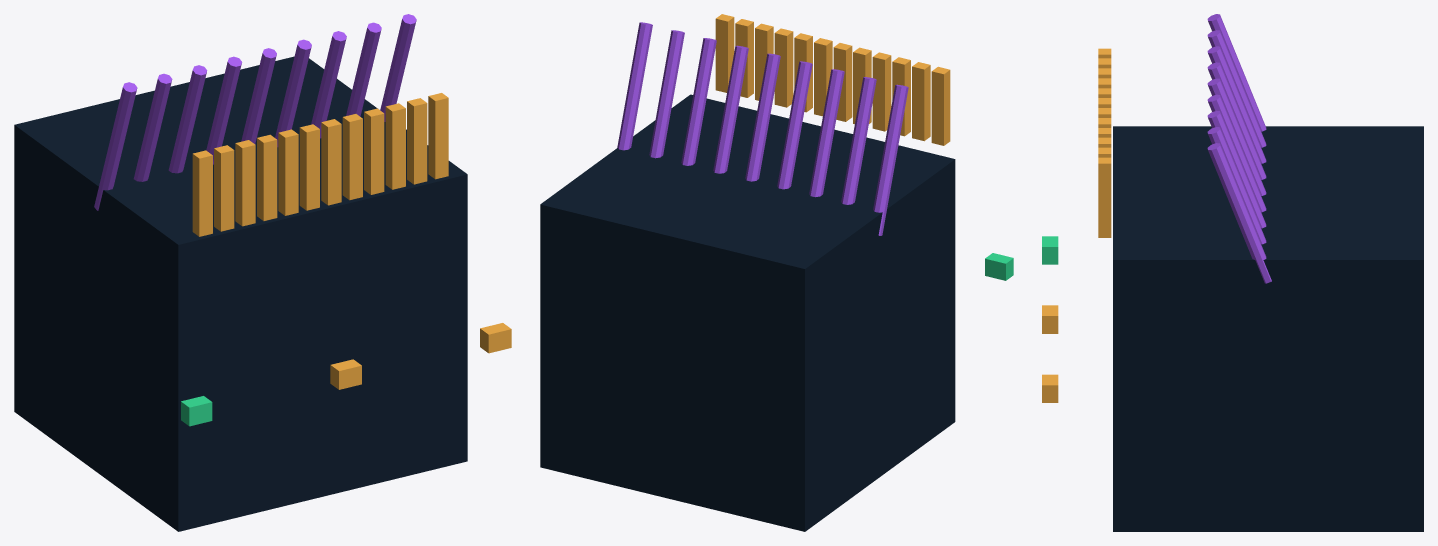
The model's file is 53_L80_SensorOpticalTelemetryInterface.fbx.
3 views of the same model, side by side, from view 1: azimuth 30°, elevation 25°; view 2: azimuth 150°, elevation 25°; view 3: azimuth 270°, elevation 25° (orthographic). The views are drawn at different scales.
Visible parts, largest first — view 1: SensorOpticalTelemetryInterface, SensorOpticalTelemetryInterface_Part_0013, SensorOpticalTelemetryInterface_Part_0015, SensorOpticalTelemetryInterface_Part_0014, SensorOpticalTelemetryInterface_Part_0019, SensorOpticalTelemetryInterface_Part_0021, SensorOpticalTelemetryInterface_Part_0018, SensorOpticalTelemetryInterface_Part_0016, SensorOpticalTelemetryInterface_Part_0017, SensorOpticalTelemetryInterface_Part_0020; view 2: SensorOpticalTelemetryInterface, SensorOpticalTelemetryInterface_Part_0013, SensorOpticalTelemetryInterface_Part_0014, SensorOpticalTelemetryInterface_Part_0015, SensorOpticalTelemetryInterface_Part_0017, SensorOpticalTelemetryInterface_Part_0019, SensorOpticalTelemetryInterface_Part_0016, SensorOpticalTelemetryInterface_Part_0018, SensorOpticalTelemetryInterface_Part_0020, SensorOpticalTelemetryInterface_Part_0021; view 3: SensorOpticalTelemetryInterface, SensorOpticalTelemetryInterface_Part_0021, SensorOpticalTelemetryInterface_Part_0014, SensorOpticalTelemetryInterface_Part_0016, SensorOpticalTelemetryInterface_Part_0017, SensorOpticalTelemetryInterface_Part_0013, SensorOpticalTelemetryInterface_Part_0015, SensorOpticalTelemetryInterface_Part_0018, SensorOpticalTelemetryInterface_Part_0020, SensorOpticalTelemetryInterface_Part_0019.
Boxes of the visible parts, bbox=[...] form: SensorOpticalTelemetryInterface: bbox=[14, 56, 511, 531]; SensorOpticalTelemetryInterface_Part_0013: bbox=[94, 82, 137, 210]; SensorOpticalTelemetryInterface_Part_0015: bbox=[168, 65, 207, 173]; SensorOpticalTelemetryInterface_Part_0014: bbox=[133, 73, 172, 181]; SensorOpticalTelemetryInterface_Part_0019: bbox=[311, 31, 346, 138]; SensorOpticalTelemetryInterface_Part_0021: bbox=[380, 14, 416, 121]; SensorOpticalTelemetryInterface_Part_0018: bbox=[275, 39, 311, 147]; SensorOpticalTelemetryInterface_Part_0016: bbox=[206, 56, 241, 164]; SensorOpticalTelemetryInterface_Part_0017: bbox=[241, 48, 276, 143]; SensorOpticalTelemetryInterface_Part_0020: bbox=[346, 22, 381, 116]; SensorOpticalTelemetryInterface: bbox=[540, 14, 1013, 531]; SensorOpticalTelemetryInterface_Part_0013: bbox=[873, 84, 908, 235]; SensorOpticalTelemetryInterface_Part_0014: bbox=[841, 77, 876, 204]; SensorOpticalTelemetryInterface_Part_0015: bbox=[809, 69, 844, 197]; SensorOpticalTelemetryInterface_Part_0017: bbox=[745, 53, 780, 181]; SensorOpticalTelemetryInterface_Part_0019: bbox=[681, 38, 716, 165]; SensorOpticalTelemetryInterface_Part_0016: bbox=[777, 61, 812, 189]; SensorOpticalTelemetryInterface_Part_0018: bbox=[713, 45, 748, 173]; SensorOpticalTelemetryInterface_Part_0020: bbox=[649, 30, 684, 158]; SensorOpticalTelemetryInterface_Part_0021: bbox=[617, 22, 652, 150]; SensorOpticalTelemetryInterface: bbox=[1042, 48, 1423, 531]; SensorOpticalTelemetryInterface_Part_0021: bbox=[1207, 143, 1271, 283]; SensorOpticalTelemetryInterface_Part_0014: bbox=[1207, 30, 1266, 147]; SensorOpticalTelemetryInterface_Part_0016: bbox=[1207, 62, 1266, 179]; SensorOpticalTelemetryInterface_Part_0017: bbox=[1207, 78, 1266, 195]; SensorOpticalTelemetryInterface_Part_0013: bbox=[1207, 14, 1266, 131]; SensorOpticalTelemetryInterface_Part_0015: bbox=[1207, 46, 1266, 163]; SensorOpticalTelemetryInterface_Part_0018: bbox=[1207, 94, 1266, 212]; SensorOpticalTelemetryInterface_Part_0020: bbox=[1207, 127, 1266, 244]; SensorOpticalTelemetryInterface_Part_0019: bbox=[1207, 110, 1266, 228].
Size of the model in its own units: 64.6 by 77.92 by 70.
